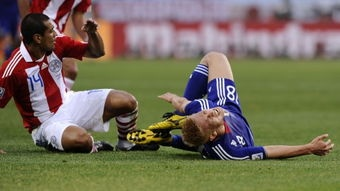falling: (0, 9, 153, 156)
